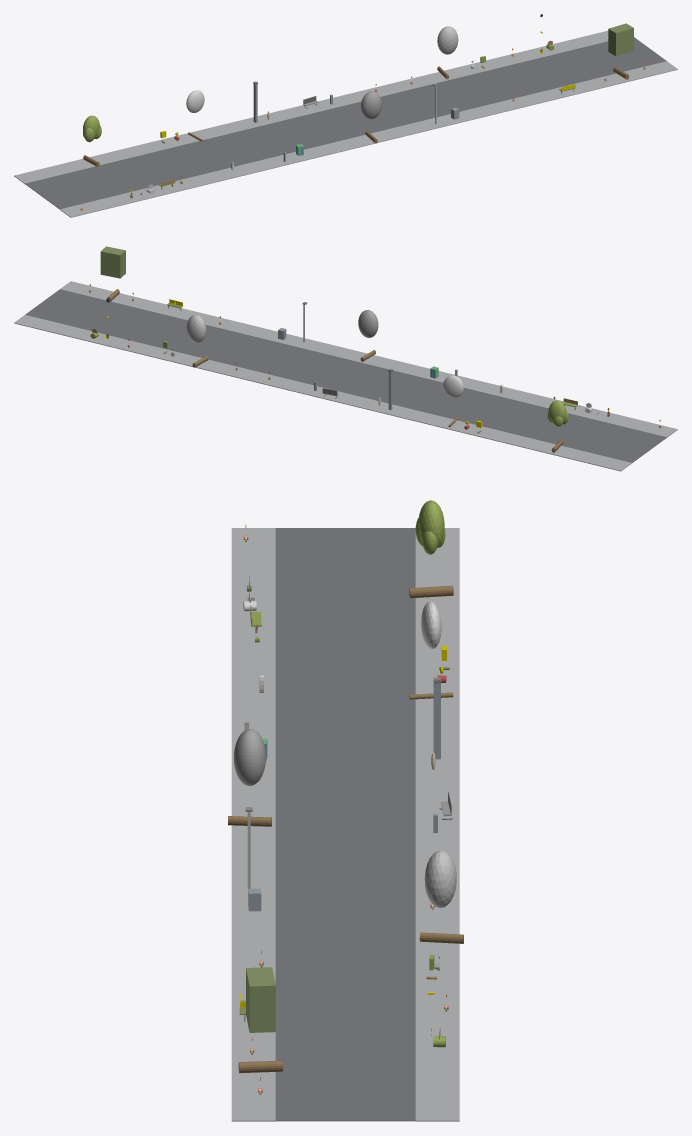
The picture shows the model from 3 angles, top to bottom: view 1: azimuth 30°, elevation 25°; view 2: azimuth 150°, elevation 25°; view 3: azimuth 270°, elevation 25°; orthographic projection. The views are drawn at different scales.
Parts seen in each view (by area): view 1: road_slab, sidewalk_left, sidewalk_right, inst_0016, inst_0015, inst_0014, inst_0012, inst_0013; view 2: road_slab, sidewalk_right, sidewalk_left, inst_0016, inst_0015, inst_0014, inst_0012, inst_0013; view 3: road_slab, sidewalk_right, sidewalk_left, inst_0016, inst_0015, inst_0014, inst_0012, inst_0013.
Boxes of the visible parts, x1,y1,x2,y2 form: road_slab: (25,37,666,209); sidewalk_left: (60,61,677,217); sidewalk_right: (14,30,608,183); inst_0016: (608,23,633,79); inst_0015: (437,26,458,79); inst_0014: (361,91,381,143); inst_0012: (83,115,101,166); inst_0013: (186,90,204,141); road_slab: (25,289,666,462); sidewalk_right: (14,315,631,471); sidewalk_left: (60,281,677,437); inst_0016: (100,246,125,302); inst_0015: (186,314,208,367); inst_0014: (358,310,378,361); inst_0012: (547,400,568,452); inst_0013: (443,375,463,427); road_slab: (275,528,415,1121); sidewalk_right: (415,528,459,1121); sidewalk_left: (231,528,275,1121); inst_0016: (238,967,282,1073); inst_0015: (419,850,463,943); inst_0014: (228,729,271,826); inst_0012: (409,500,453,598); inst_0013: (409,601,453,699).
Size of the model in its own units: 80 by 6.08 by 13.49.
